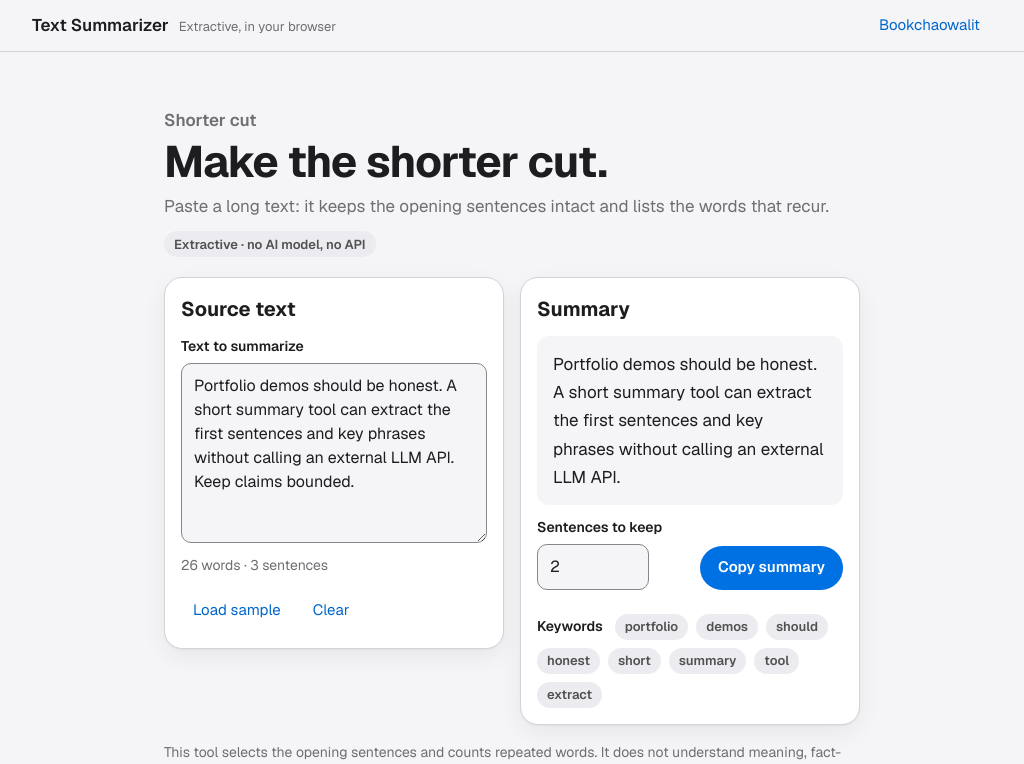
it: summarizer › does not bring an old Copied back when the same summary returns (Clear, then Load sample)
Click the button "Copy summary" at x=771, y=568, box [700, 546, 843, 590]
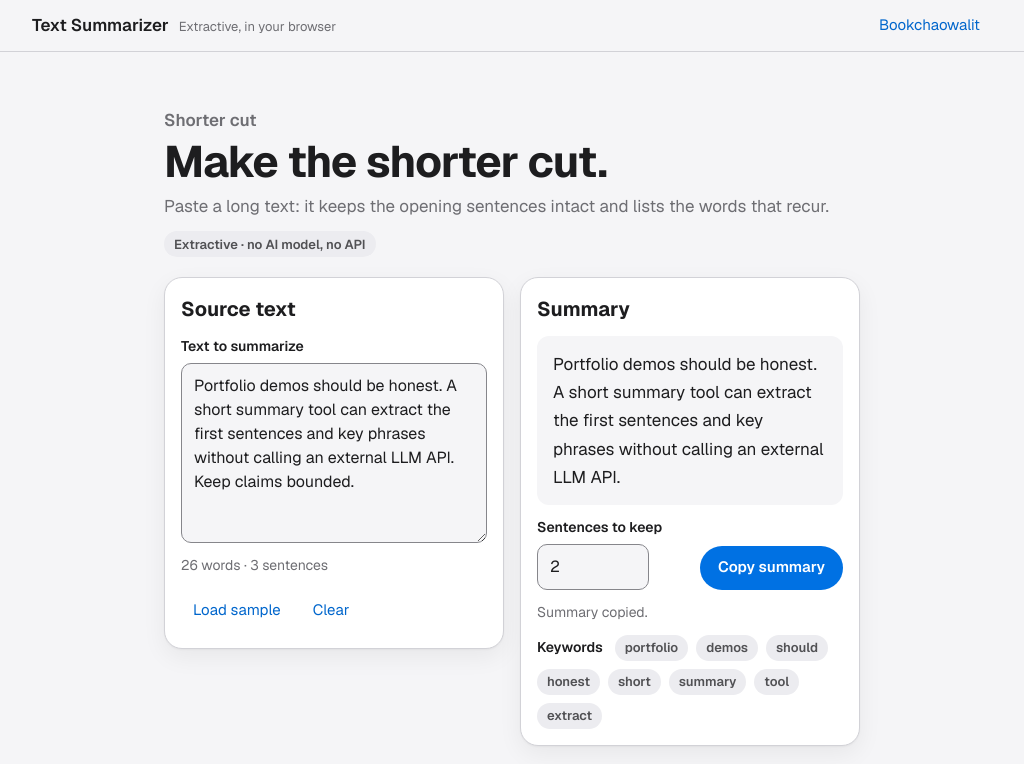
Expected: the message with class "ts-copy-status" reads "Summary copied.", [537, 603, 648, 621]
Click the button "Clear" at x=331, y=610, box [301, 588, 361, 632]
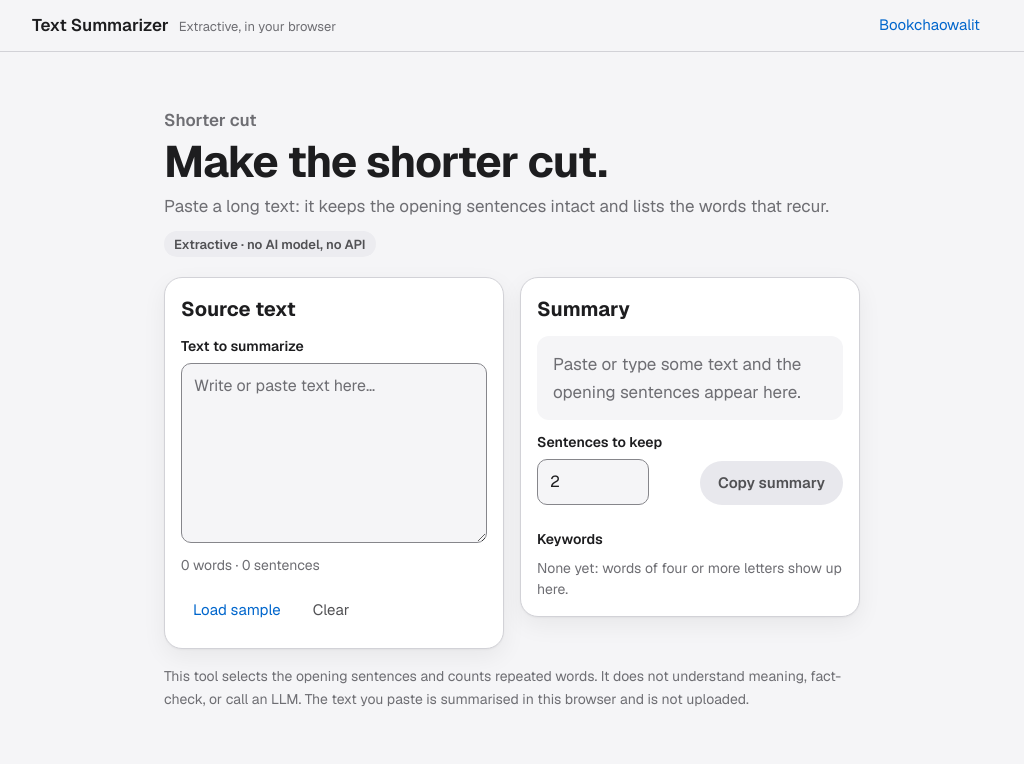
Click the button "Load sample" at x=237, y=610, box [181, 588, 293, 632]
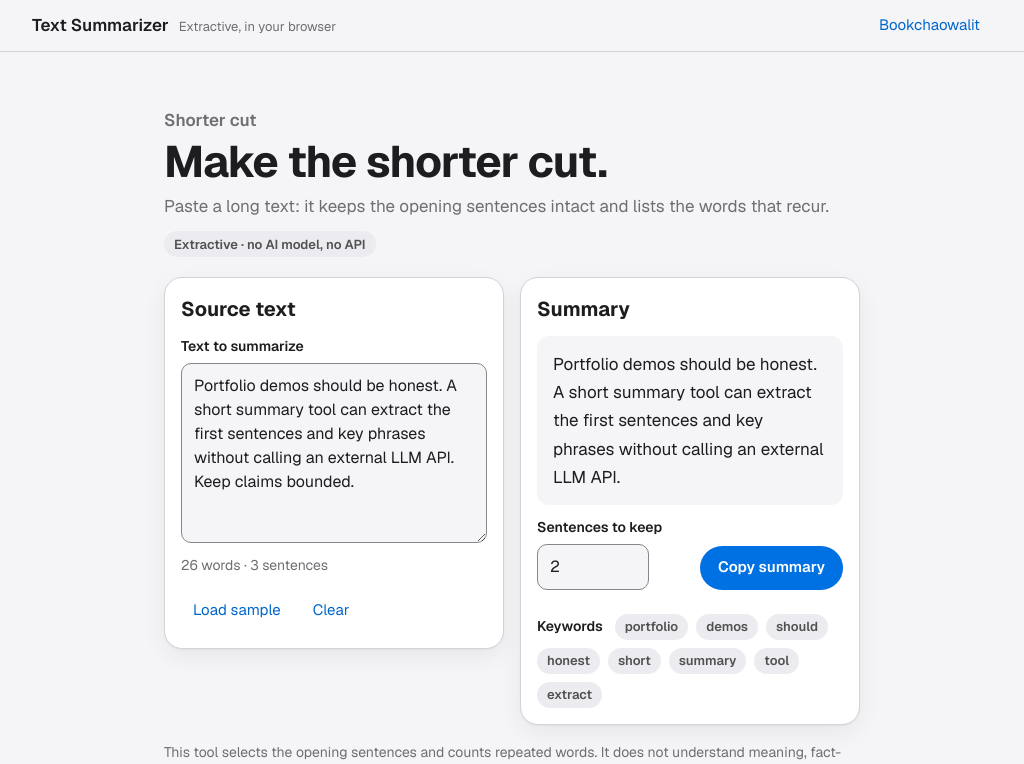
Expected: the message with class "ts-copy-status" is empty, [537, 590, 843, 602]
